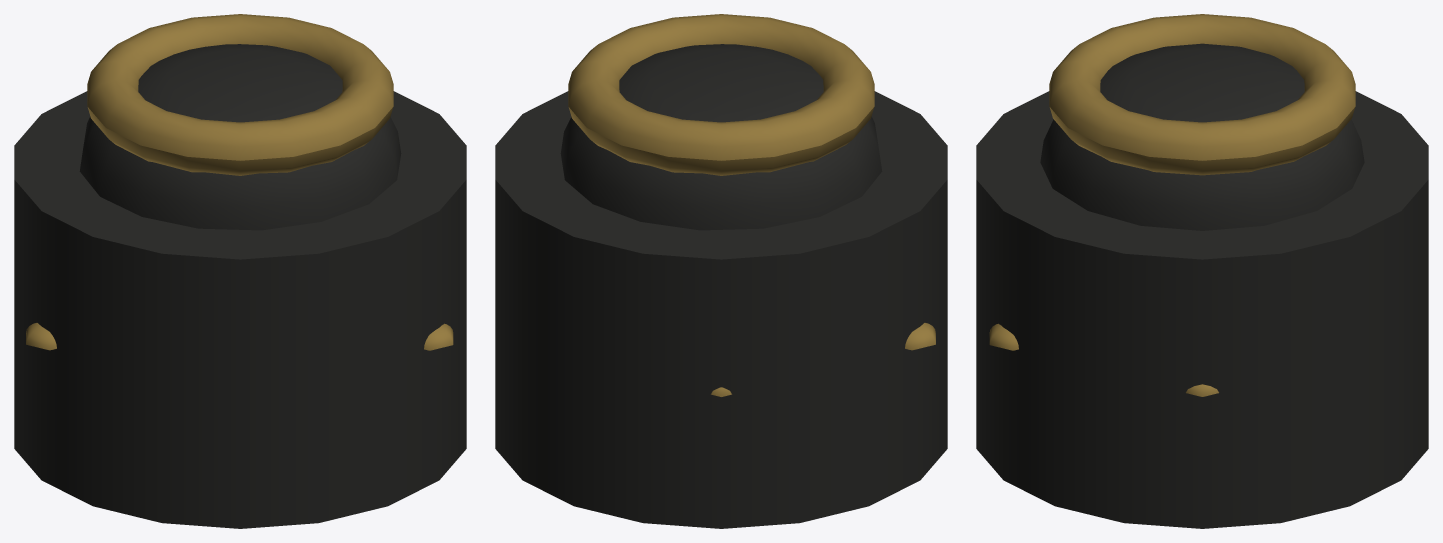
The model's file is adamant_armor.obj.
The picture shows the model from 3 angles, left to right: view 1: azimuth 30°, elevation 25°; view 2: azimuth 150°, elevation 25°; view 3: azimuth 270°, elevation 25°; orthographic projection.
Visible parts, largest first — view 1: adamant_armor; view 2: adamant_armor; view 3: adamant_armor.
Boxes of the visible parts, box(x1,y1,x2,y2) form: adamant_armor: box(14, 14, 466, 528); adamant_armor: box(495, 14, 947, 528); adamant_armor: box(976, 14, 1428, 528).
Bounding box in the file's own units: 1.43 × 1.18 × 1.34.
